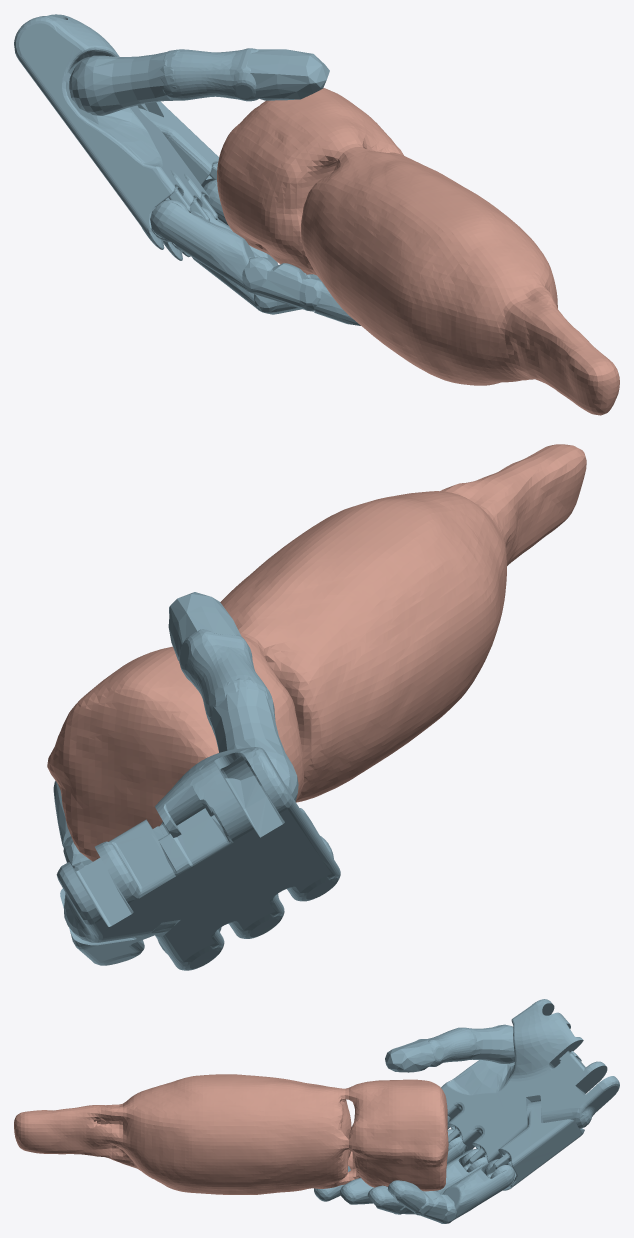
File: 5_joint.glb
The picture shows the model from 3 angles, top to bottom: view 1: azimuth 30°, elevation 25°; view 2: azimuth 150°, elevation 25°; view 3: azimuth 270°, elevation 25°; orthographic projection. The views are drawn at different scales.
Visible parts, largest first — view 1: world; view 2: world; view 3: world.
Part boxes in pixels (x1=…): world: x1=14, y1=14, x2=619, y2=415; world: x1=47, y1=444, x2=586, y2=970; world: x1=14, y1=999, x2=619, y2=1223.
Bounding box in the file's own units: 0.9364 × 0.7975 × 2.6.
